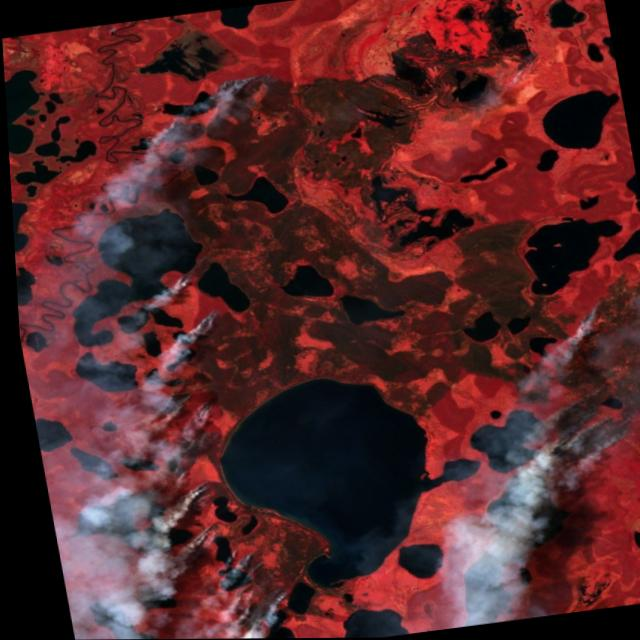fire: (81, 64, 385, 640), (500, 270, 640, 486), (375, 13, 451, 64), (486, 37, 554, 89)
